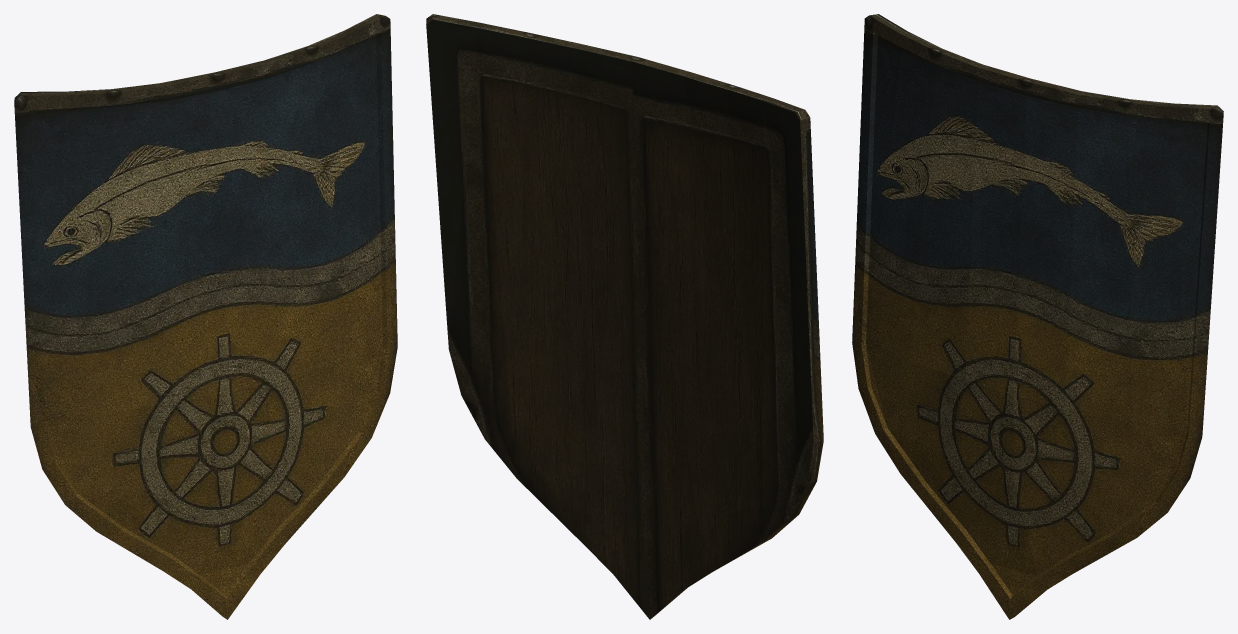
The model's file is DE_LARE_SHIELD_IRON.glb.
3 views of the same model, side by side, from view 1: azimuth 30°, elevation 25°; view 2: azimuth 150°, elevation 25°; view 3: azimuth 330°, elevation 25° (orthographic). The views are drawn at different scales.
Visible parts, largest first — view 1: DE_LARE_SHIELD_IRON; view 2: DE_LARE_SHIELD_IRON; view 3: DE_LARE_SHIELD_IRON.
Part boxes in pixels (x1,y1,x2,y2): DE_LARE_SHIELD_IRON: [14, 14, 397, 619]; DE_LARE_SHIELD_IRON: [426, 14, 823, 619]; DE_LARE_SHIELD_IRON: [852, 14, 1223, 619].
Size of the model in its own units: 0.6643 by 0.9348 by 0.1197.
Materials: 1 (1 with a texture image).
